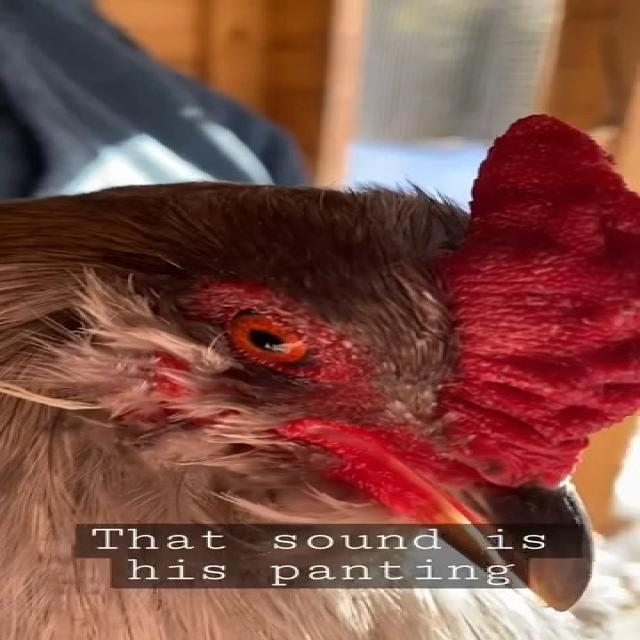Breathing: (2, 111, 636, 622)
